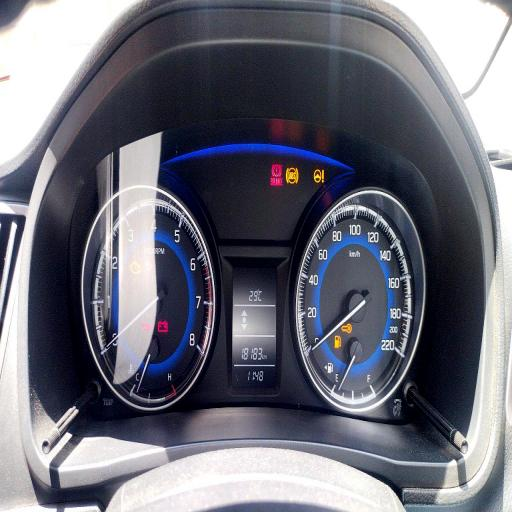brake_system_fault: (270, 162, 284, 178)
check_engine: (130, 260, 142, 276)
tachometer: (95, 197, 213, 399)
vehicle_charging: (157, 320, 168, 334)
